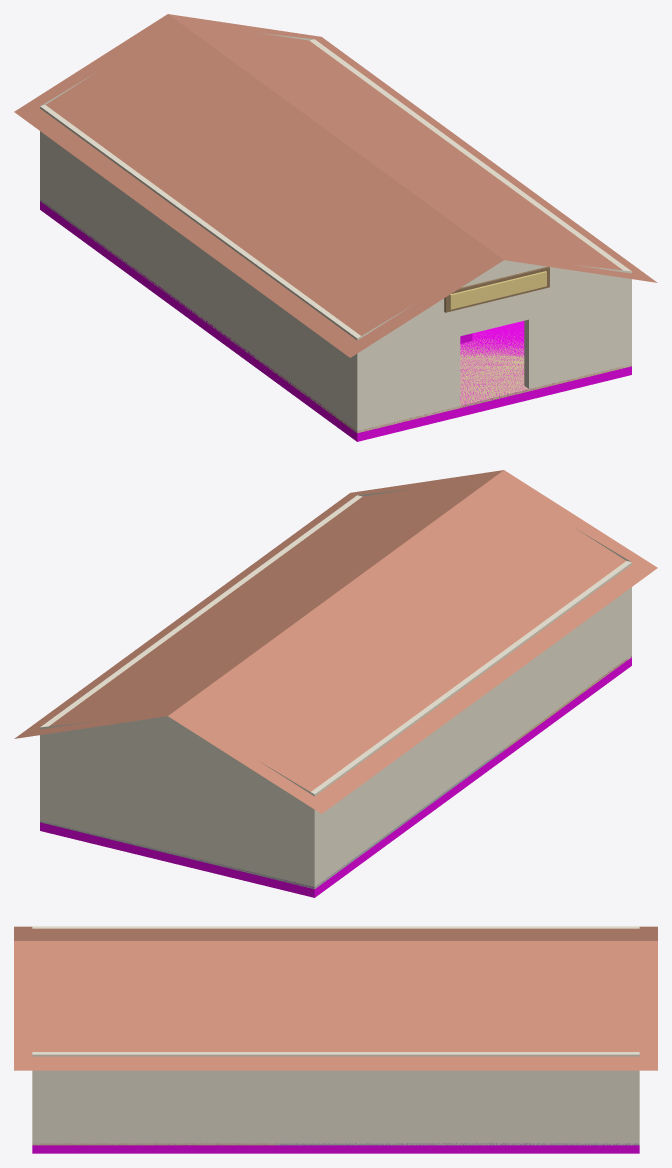
Rendered from tienda.glb.
3 renders of one model, top to bottom at view 1: azimuth 30°, elevation 25°; view 2: azimuth 150°, elevation 25°; view 3: azimuth 270°, elevation 25°, orthographic. The views are drawn at different scales.
Visible parts, largest first — view 1: techo, paredes, col_piso, piso_tienda, cartel_tienda; view 2: techo, paredes, col_piso, piso_taller; view 3: techo, paredes, col_piso, piso_taller, piso_tienda.
Part boxes in pixels (x1,y1,x2,y2): techo: (14, 14, 657, 357); paredes: (40, 33, 631, 432); col_piso: (40, 201, 631, 441); piso_tienda: (255, 329, 631, 433); cartel_tienda: (444, 266, 549, 312); techo: (14, 470, 657, 813); paredes: (40, 489, 631, 888); col_piso: (40, 657, 631, 897); piso_taller: (40, 748, 504, 889); techo: (14, 926, 657, 1070); paredes: (32, 926, 639, 1145); col_piso: (32, 1143, 639, 1153); piso_taller: (275, 1143, 639, 1145); piso_tienda: (32, 1143, 275, 1145).
Bounding box in the file's own units: 11.2 × 5.4 × 21.2.
